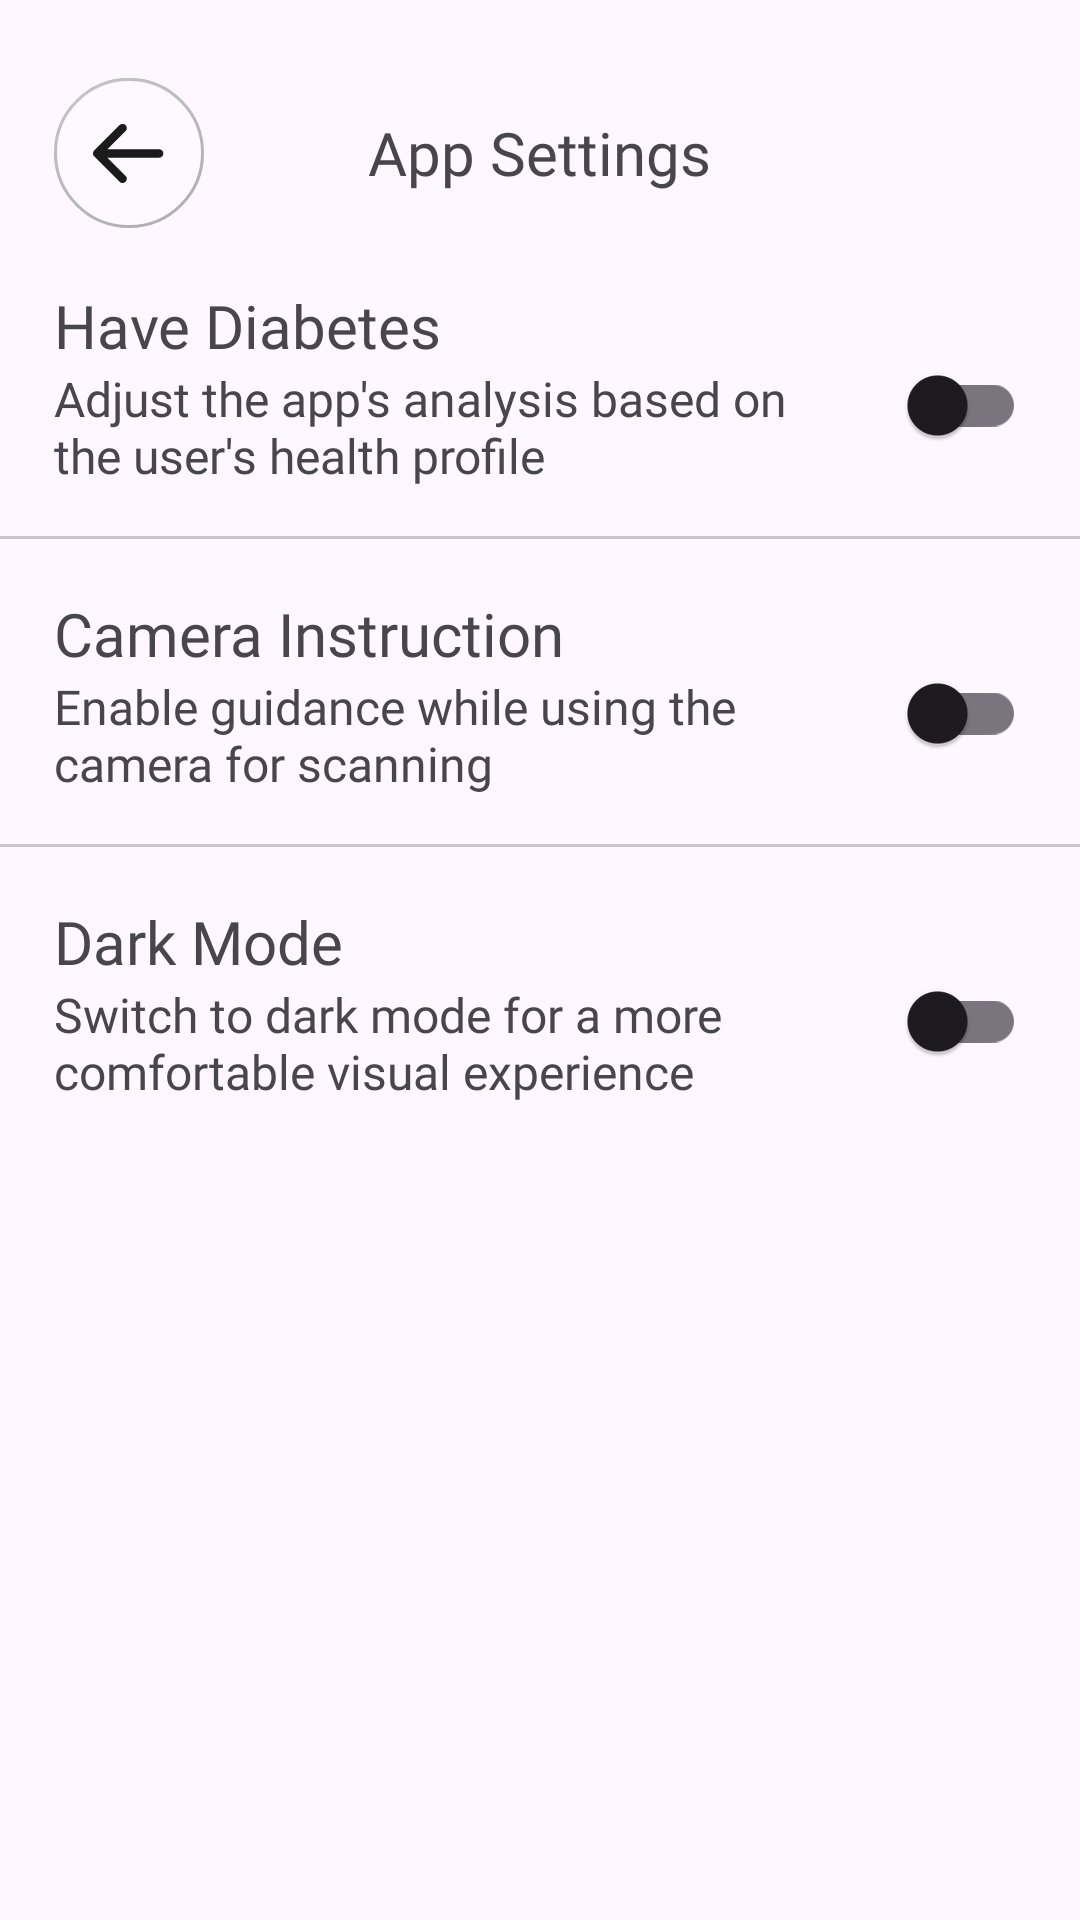

Icon click points for this 1080*1920 phone screenshot, format point (x, y):
back: point (129, 153)
